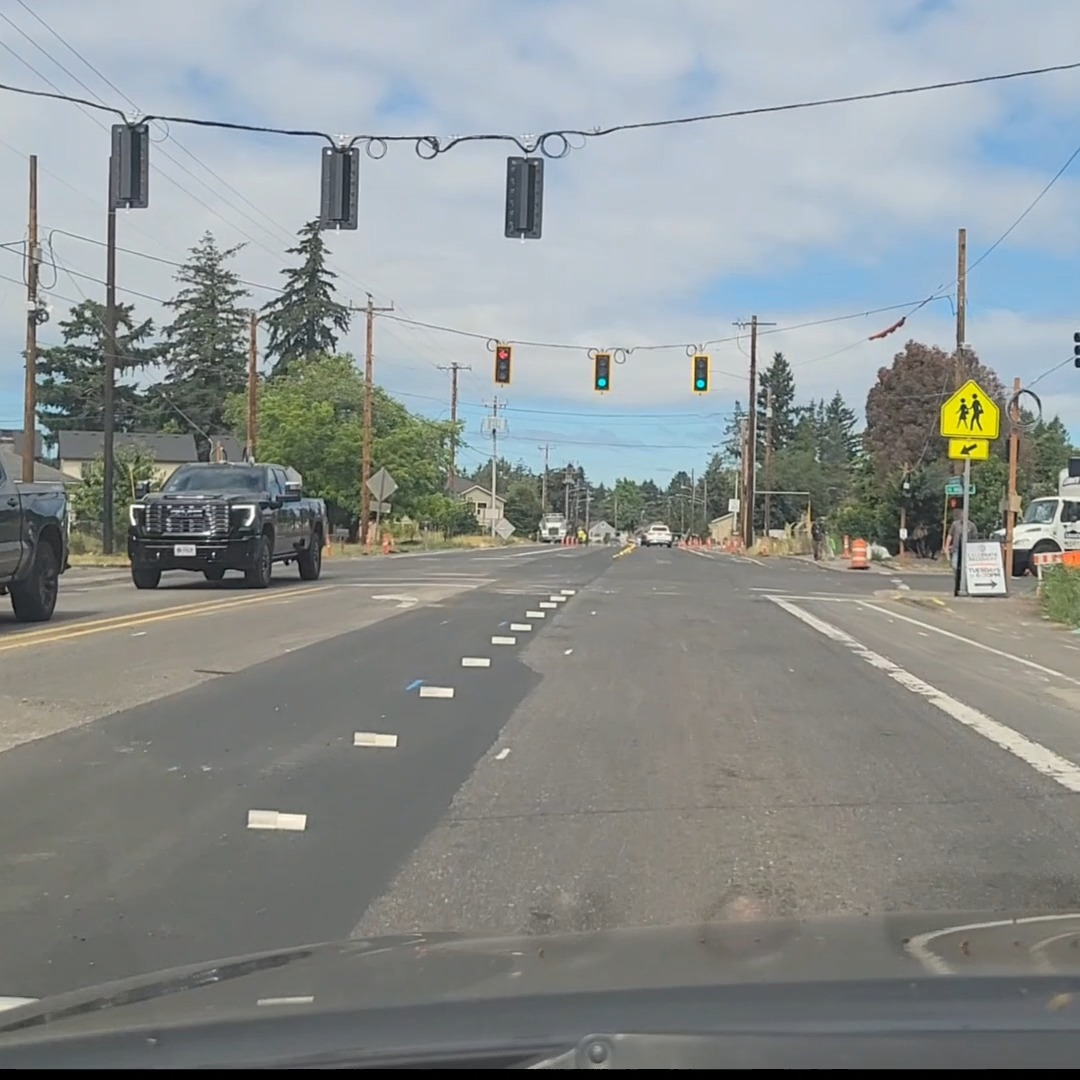car: (123, 462, 324, 602), (640, 524, 673, 547)
delineator: (365, 518, 379, 550), (381, 532, 395, 553), (324, 530, 334, 555), (758, 537, 769, 555), (842, 535, 850, 557), (733, 538, 744, 553)
